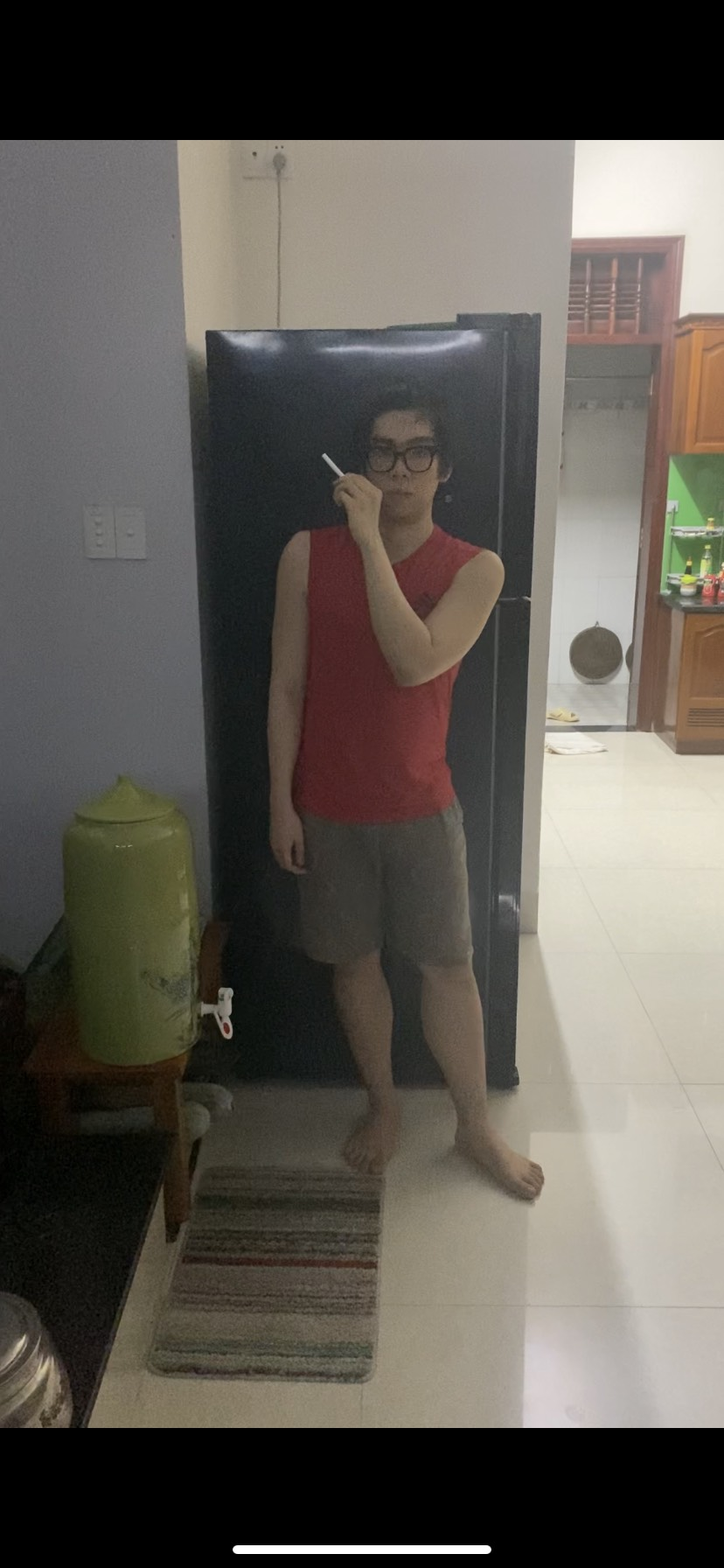cigarette: (318, 449, 345, 479)
person: (261, 387, 544, 1270)
